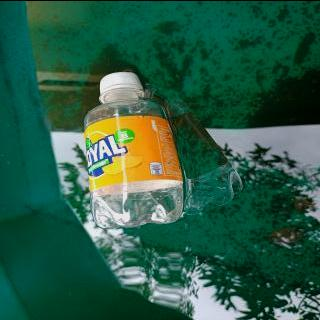bottle: (82, 69, 186, 230)
